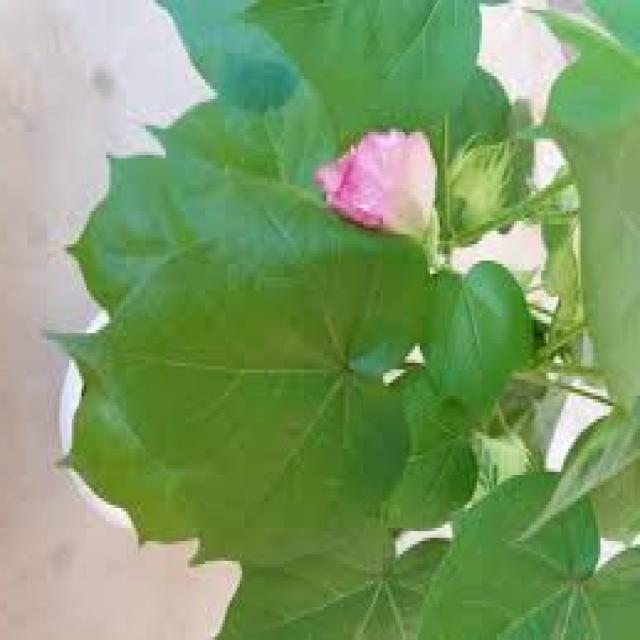Healthy Leaf: (148, 61, 612, 616)
